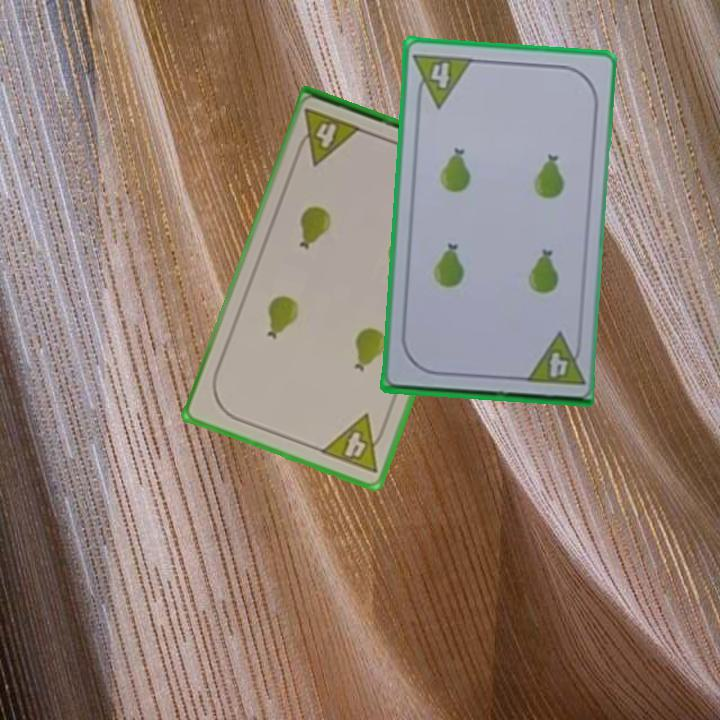4p: (317, 410, 391, 477), (291, 104, 364, 168), (410, 50, 475, 110), (520, 330, 586, 389)
